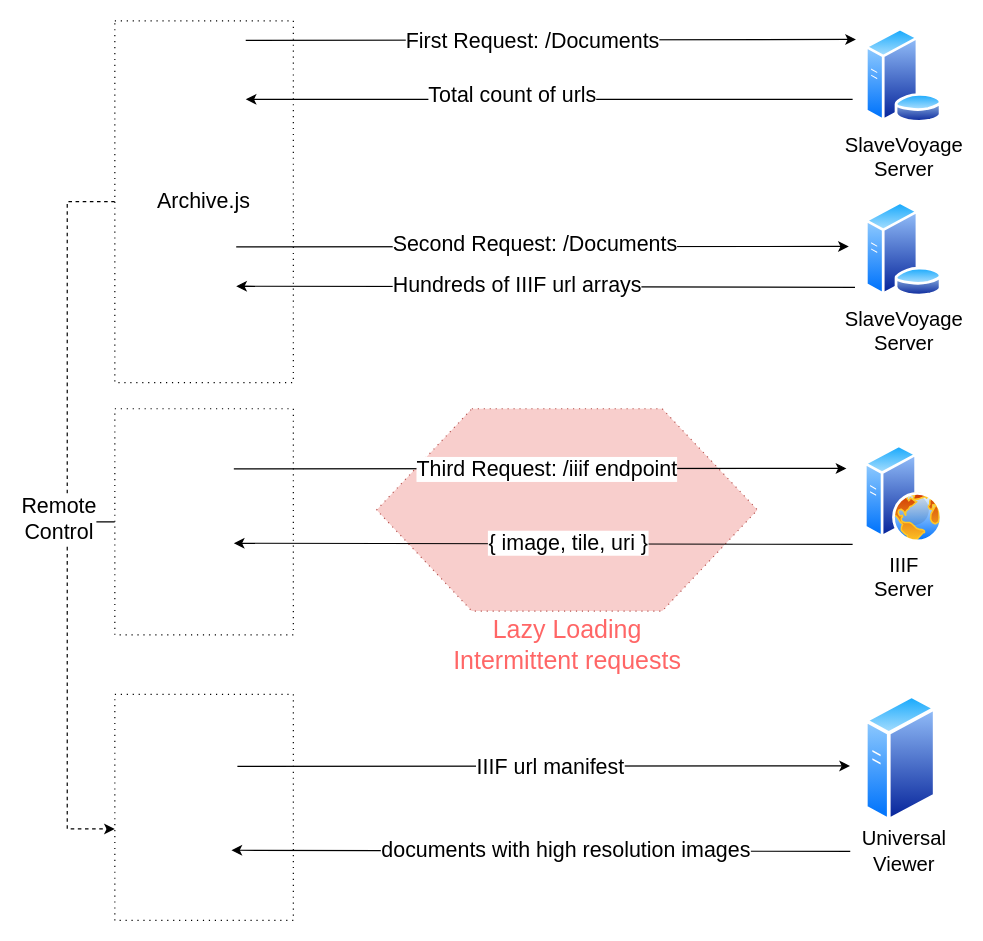
This 983x941 diagram has some shape labels left out. Each missing label, with the box of its shape:
ArchiveItem.js: (114, 408, 293, 635)
UV Modal: (114, 693, 293, 920)
